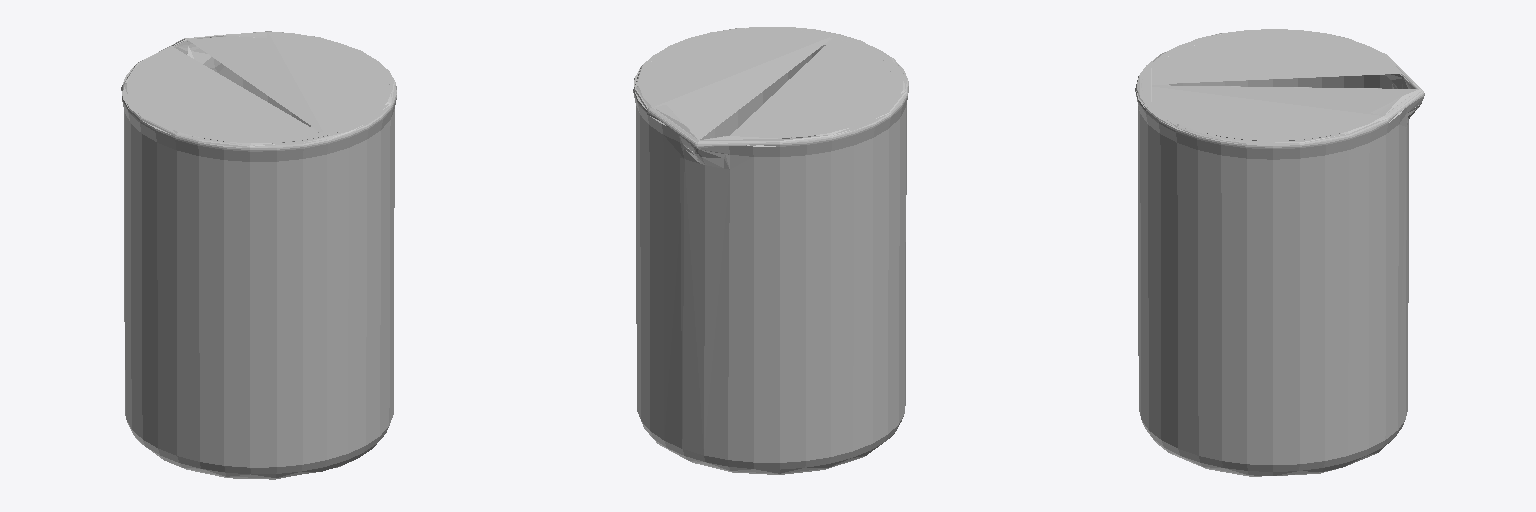
File: Beaker.obj
3 renders of one model, left to right at view 1: azimuth 30°, elevation 25°; view 2: azimuth 150°, elevation 25°; view 3: azimuth 270°, elevation 25°, orthographic.
Parts seen in each view (by area): view 1: Beaker_Cylinder.013; view 2: Beaker_Cylinder.013; view 3: Beaker_Cylinder.013.
Part boxes in pixels (left/top/right/bottom): Beaker_Cylinder.013: left=121, top=31, right=396, bottom=479; Beaker_Cylinder.013: left=633, top=27, right=908, bottom=474; Beaker_Cylinder.013: left=1135, top=29, right=1424, bottom=476.
Size of the model in its own units: 1.46 by 1.99 by 1.53.